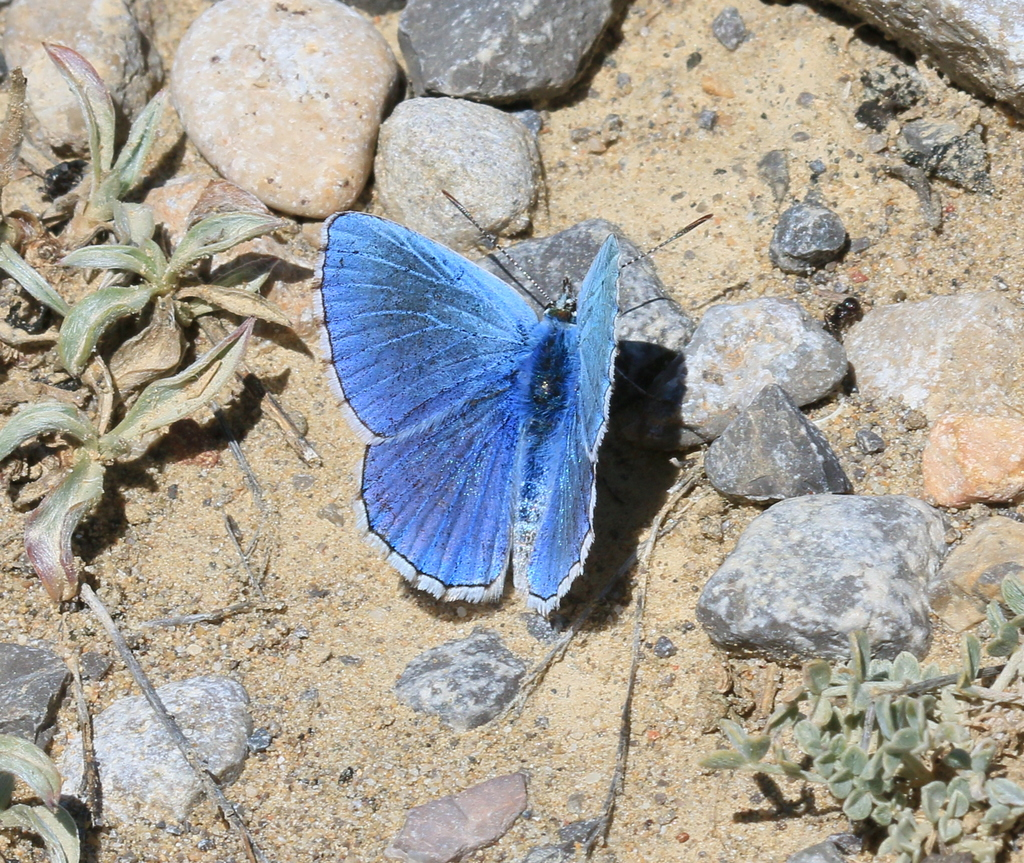Butterfly: (294, 187, 662, 683)
